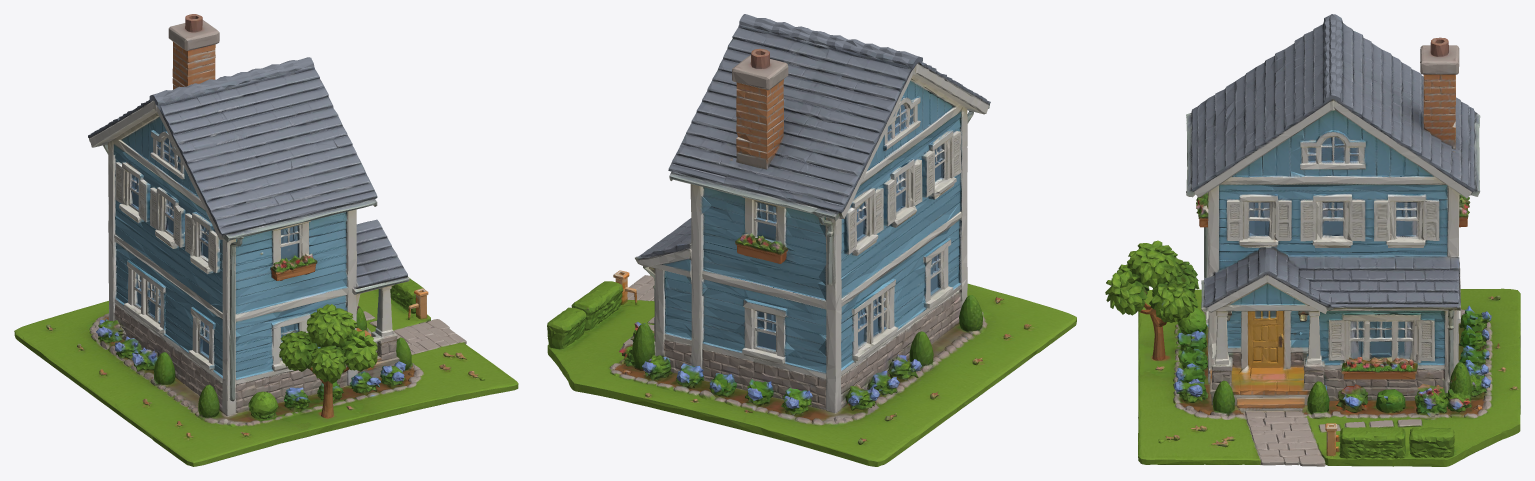
File: house_2storyB_blue.glb
3 renders of one model, left to right at view 1: azimuth 30°, elevation 25°; view 2: azimuth 150°, elevation 25°; view 3: azimuth 270°, elevation 25°, orthographic. The views are drawn at different scales.
Parts seen in each view (by area): view 1: tripo_node_0e58ab7b-daed-40df-bccd-6a854f33c08c; view 2: tripo_node_0e58ab7b-daed-40df-bccd-6a854f33c08c; view 3: tripo_node_0e58ab7b-daed-40df-bccd-6a854f33c08c.
Part boxes in pixels (left/top/right/bottom): tripo_node_0e58ab7b-daed-40df-bccd-6a854f33c08c: left=14, top=14, right=518, bottom=466; tripo_node_0e58ab7b-daed-40df-bccd-6a854f33c08c: left=547, top=14, right=1076, bottom=466; tripo_node_0e58ab7b-daed-40df-bccd-6a854f33c08c: left=1105, top=14, right=1520, bottom=466.
Bounding box in the file's own units: 0.9842 × 0.8764 × 1.
1 material, 1 textured.
